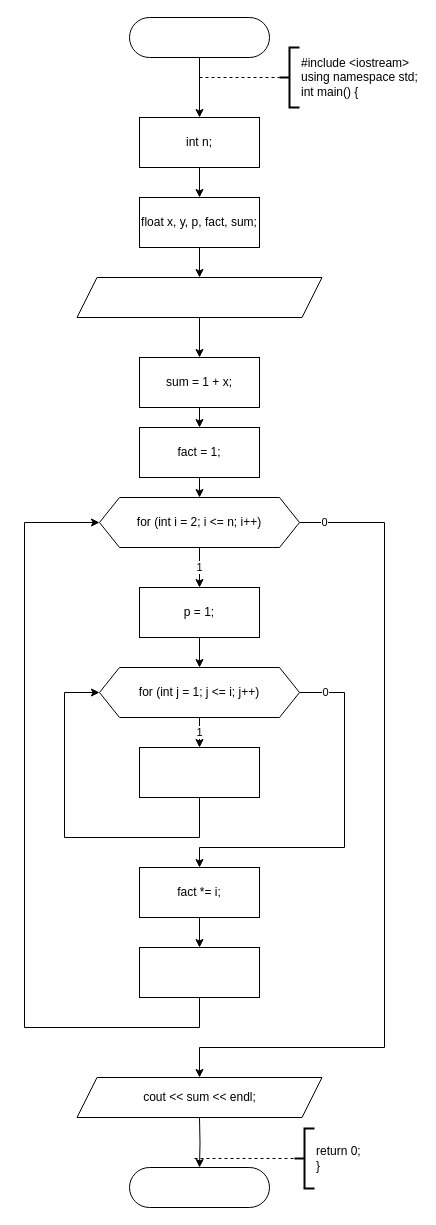
This 436x1225 diagram has some shape labels left out. Each missing label, with the centre of its shape:
"cin >> n >> x;" goes at (x=199, y=297).
"p *= x;" goes at (x=199, y=772).
"sum += p / fact;" goes at (x=199, y=972).
"Запуск" goes at (x=199, y=37).
"Конец" goes at (x=199, y=1187).
